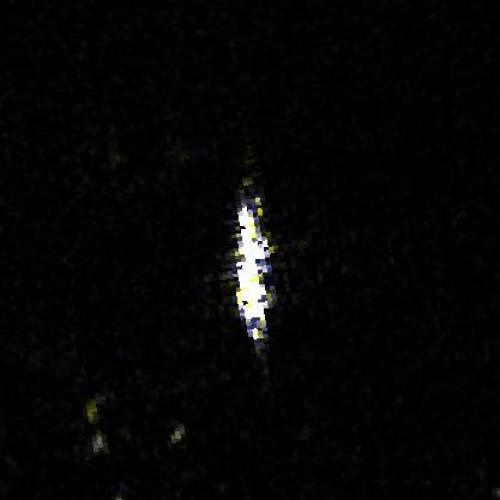ship: (233, 202, 271, 342)
